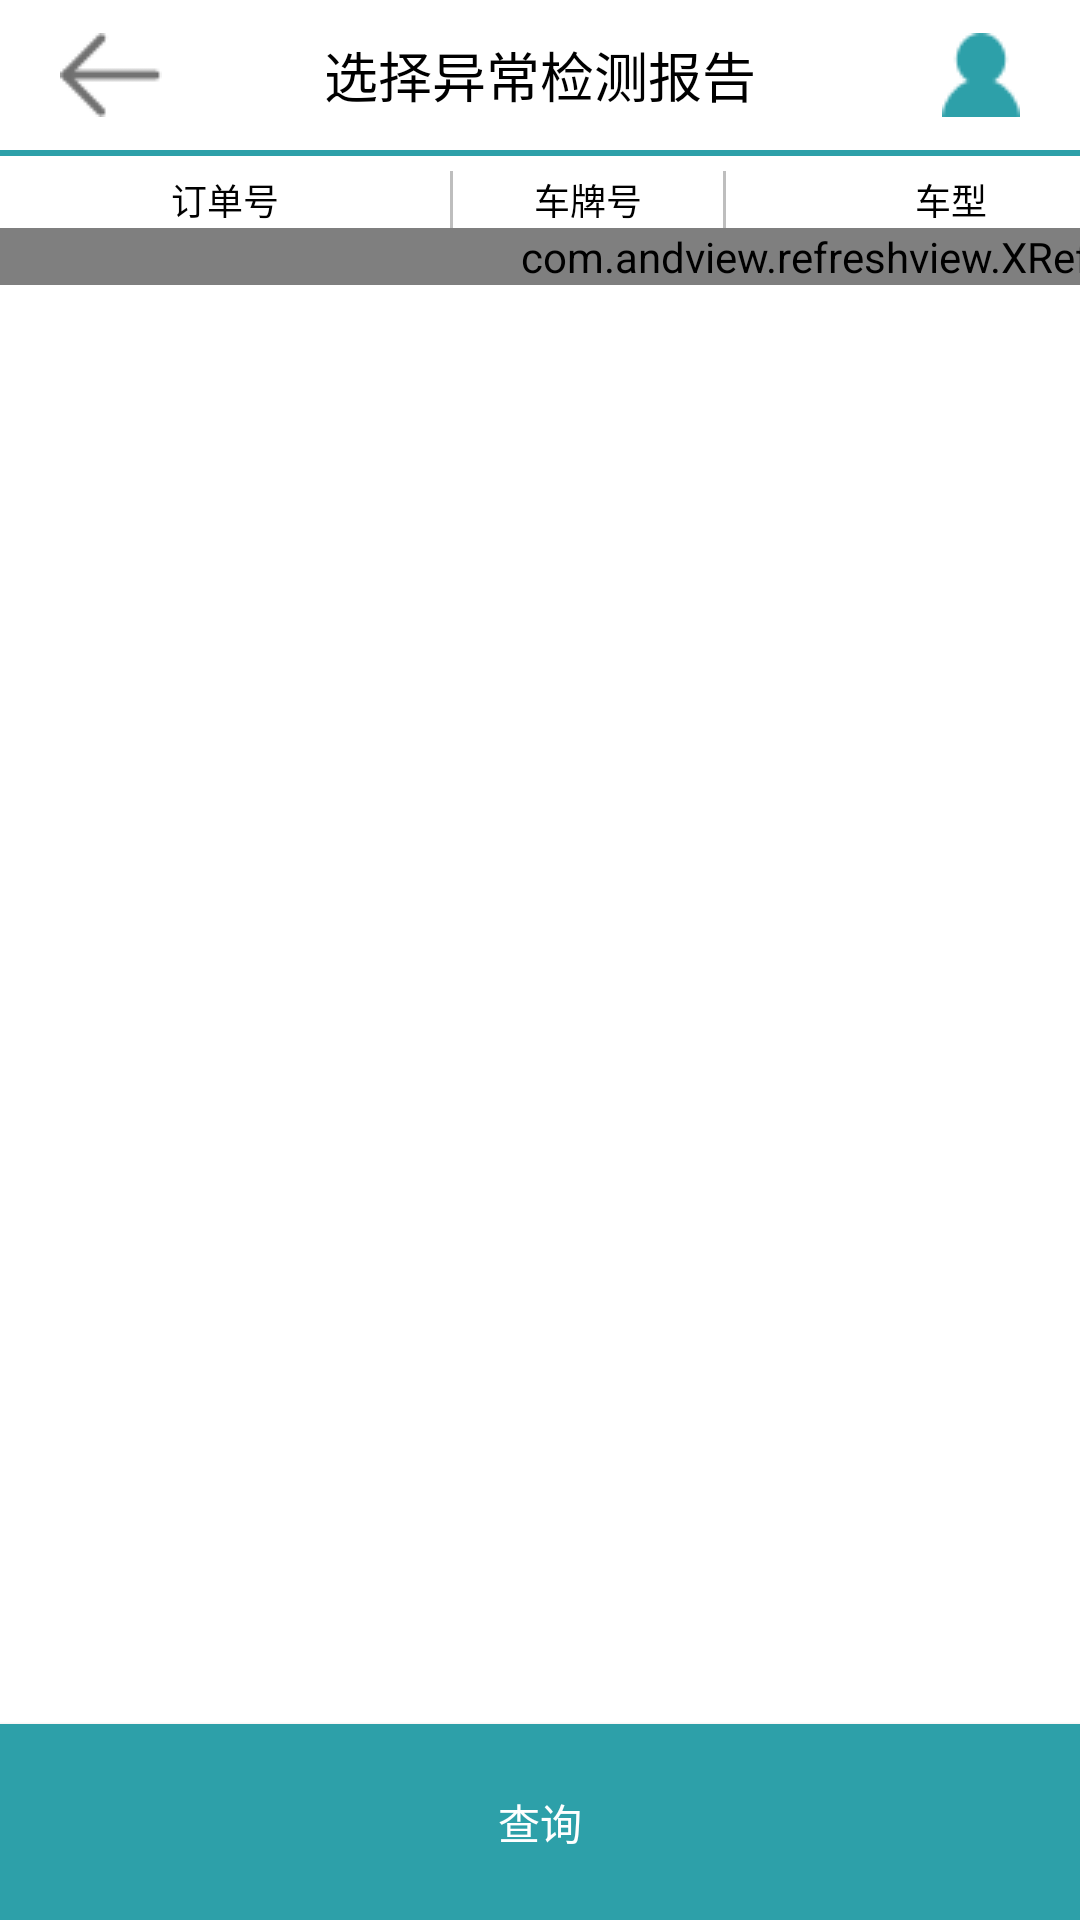

Screen size 1080x1920. Icon name, then its center in pixels as (x=x, y=y):
fanhui: (x=110, y=75)
